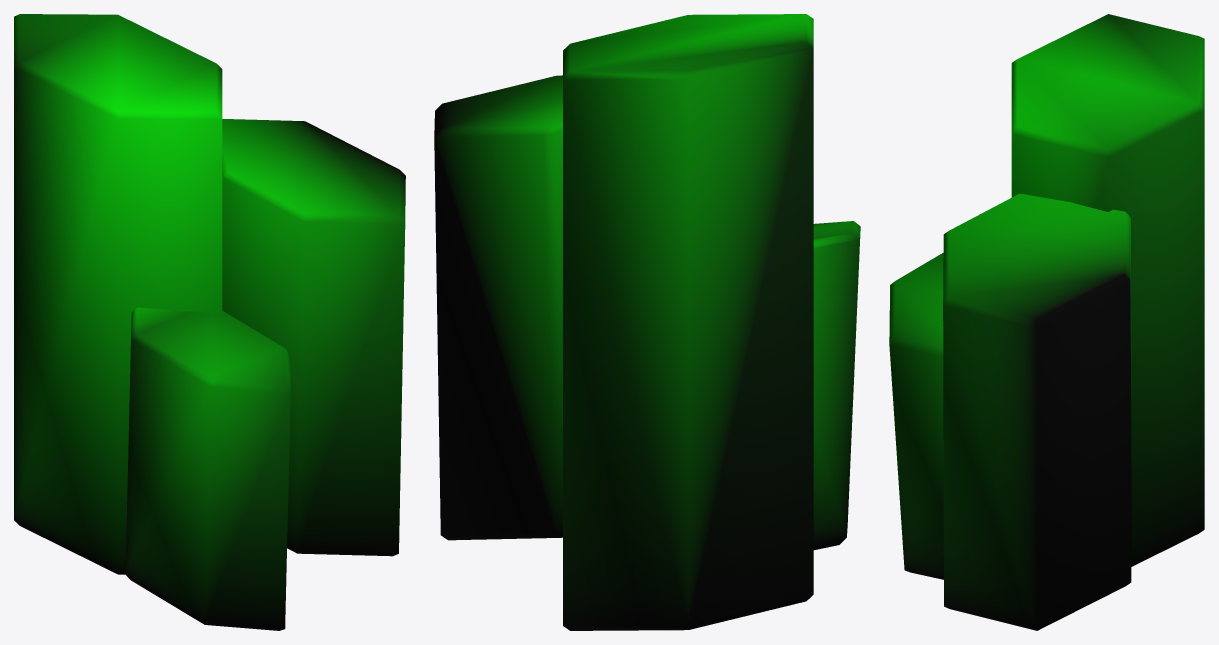
The model's file is SM_RockHexic_RockSlanted01.fbx.
3 views of the same model, side by side, from view 1: azimuth 30°, elevation 25°; view 2: azimuth 150°, elevation 25°; view 3: azimuth 270°, elevation 25° (orthographic). The views are drawn at different scales.
Parts seen in each view (by area): view 1: SM_RockHexic_RockSlanted01; view 2: SM_RockHexic_RockSlanted01; view 3: SM_RockHexic_RockSlanted01.
Boxes of the visible parts, x1,y1,x2,y2 form: SM_RockHexic_RockSlanted01: (14,14,405,630); SM_RockHexic_RockSlanted01: (434,14,860,630); SM_RockHexic_RockSlanted01: (889,14,1204,630).
Size of the model in its own units: 804 by 671 by 1150.
